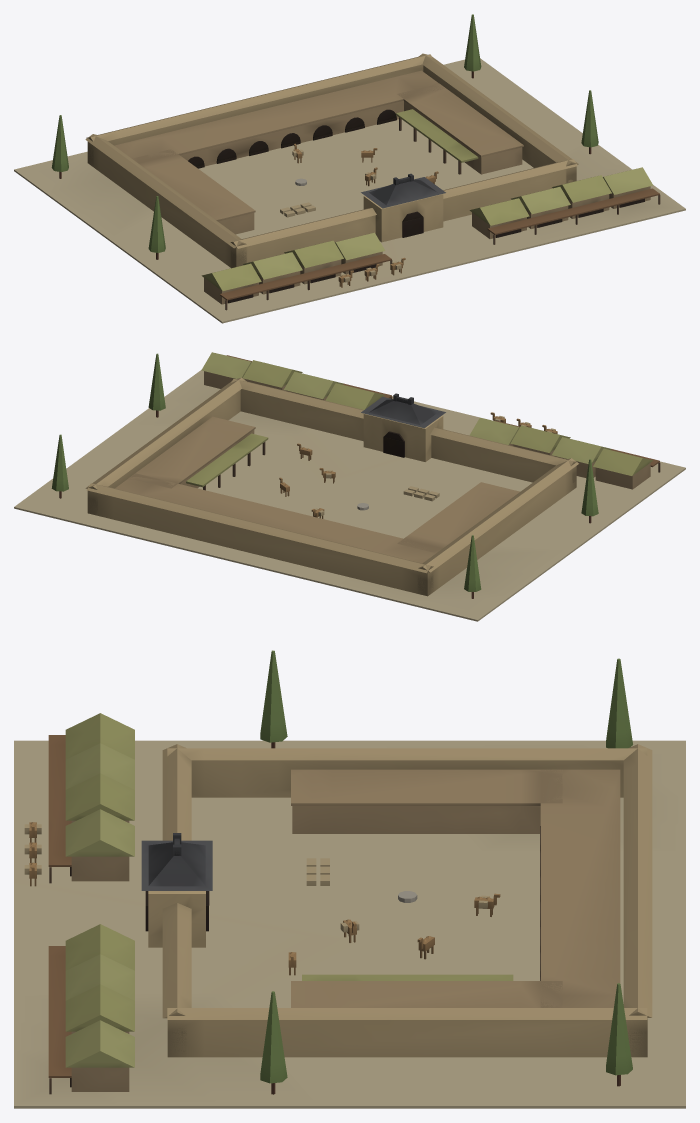
The model's file is caravan-market.glb.
3 views of the same model, one above another, from view 1: azimuth 30°, elevation 25°; view 2: azimuth 150°, elevation 25°; view 3: azimuth 270°, elevation 25° (orthographic). The views are drawn at different scales.
Visible parts, largest first — view 1: p0_walls, p1_shops, p2_trees; view 2: p0_walls, p1_shops, p2_trees; view 3: p0_walls, p1_shops, p2_trees.
Part boxes in pixels (x1=…): p0_walls: x1=14, y1=53, x2=685, y2=323; p1_shops: x1=114, y1=70, x2=660, y2=310; p2_trees: x1=51, y1=14, x2=598, y2=287; p0_walls: x1=14, y1=370, x2=685, y2=621; p1_shops: x1=115, y1=352, x2=660, y2=563; p2_trees: x1=51, y1=353, x2=598, y2=598; p0_walls: x1=14, y1=740, x2=685, y2=1108; p1_shops: x1=48, y1=713, x2=620, y2=1094; p2_trees: x1=24, y1=650, x2=632, y2=1094.
Bounding box in the file's own units: 90 × 12.03 × 70.
